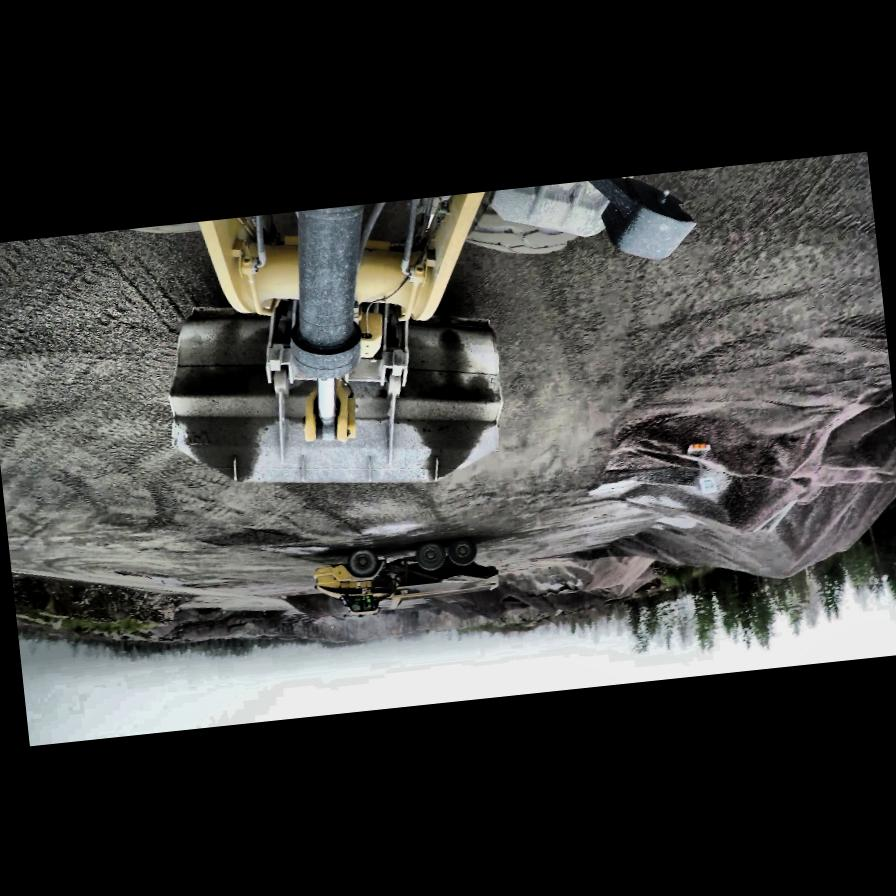anchor: (298, 376, 358, 446)
pile of gravel: (602, 466, 896, 597), (618, 392, 896, 511), (519, 550, 646, 606), (506, 576, 624, 619), (280, 588, 354, 624)
